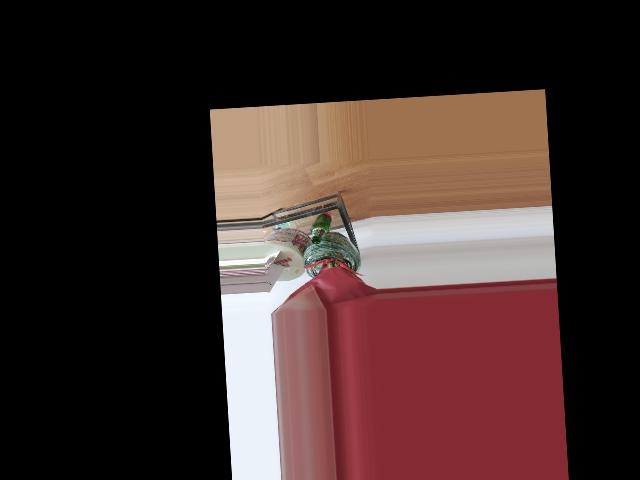beer: (309, 213, 333, 244)
